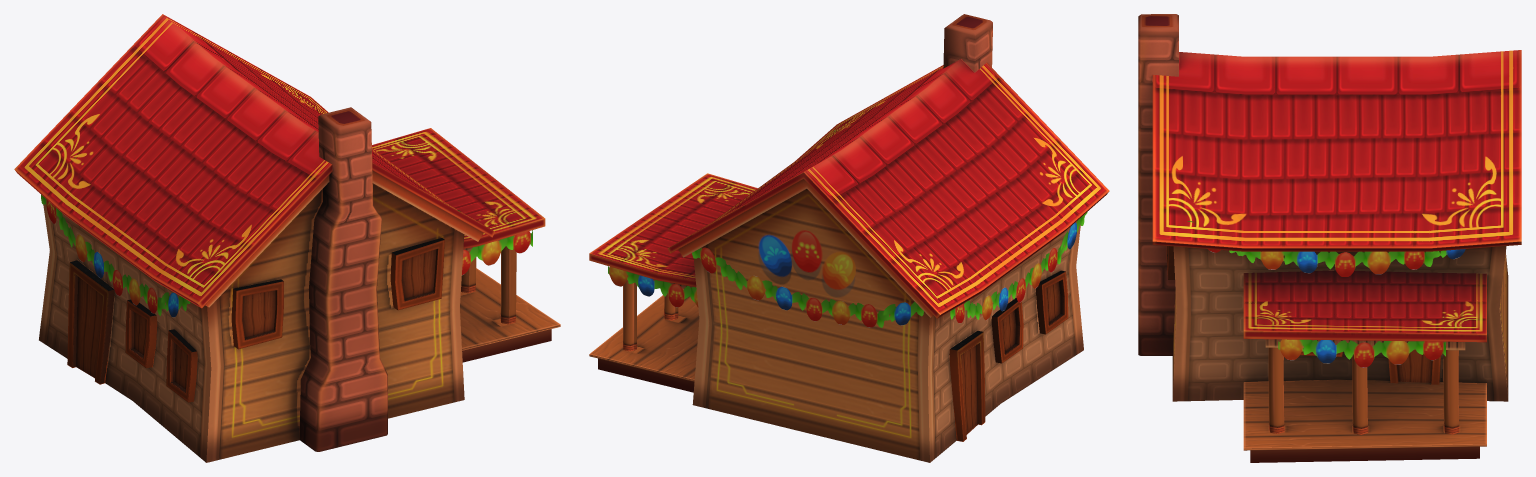
Rendered from House_09_F.FBX.
3 views of the same model, side by side, from view 1: azimuth 30°, elevation 25°; view 2: azimuth 150°, elevation 25°; view 3: azimuth 270°, elevation 25° (orthographic). The views are drawn at different scales.
Visible parts, largest first — view 1: House_09, Egg_Rope_House_09; view 2: House_09, Egg_Rope_House_09; view 3: House_09, Egg_Rope_House_09.
Part boxes in pixels (x1,y1,x2,y2): House_09: (14,14,560,462); Egg_Rope_House_09: (41,194,532,317); House_09: (589,14,1109,462); Egg_Rope_House_09: (608,129,1087,327); House_09: (1138,14,1521,462); Egg_Rope_House_09: (1187,221,1465,367).
Size of the model in its own units: 221 by 165 by 179.
